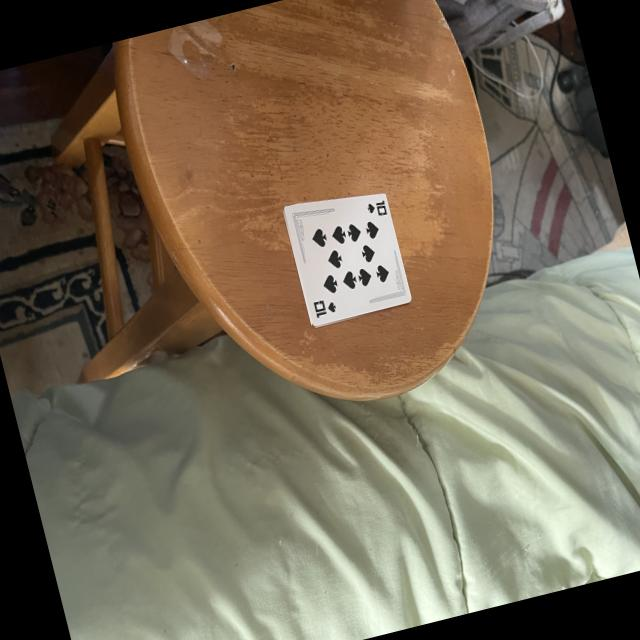10 of spades: (283, 194, 409, 326)
